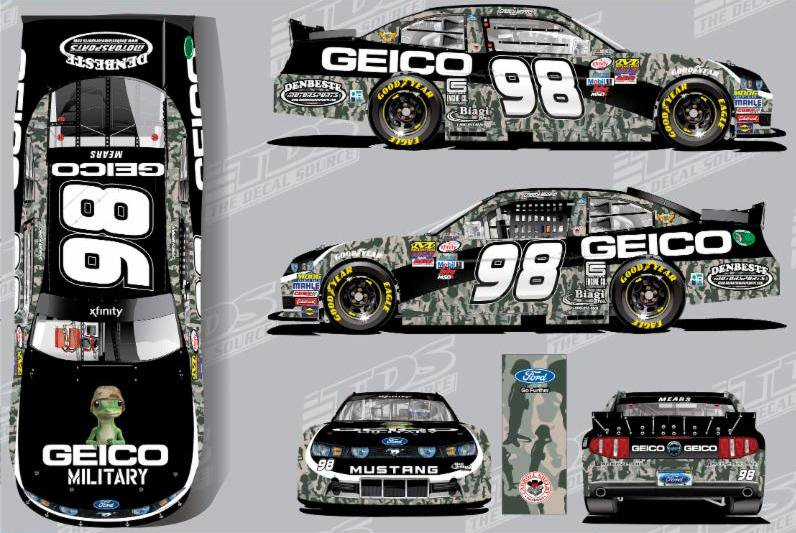Geico: (318, 44, 489, 80), (579, 231, 740, 264), (35, 437, 178, 470)
